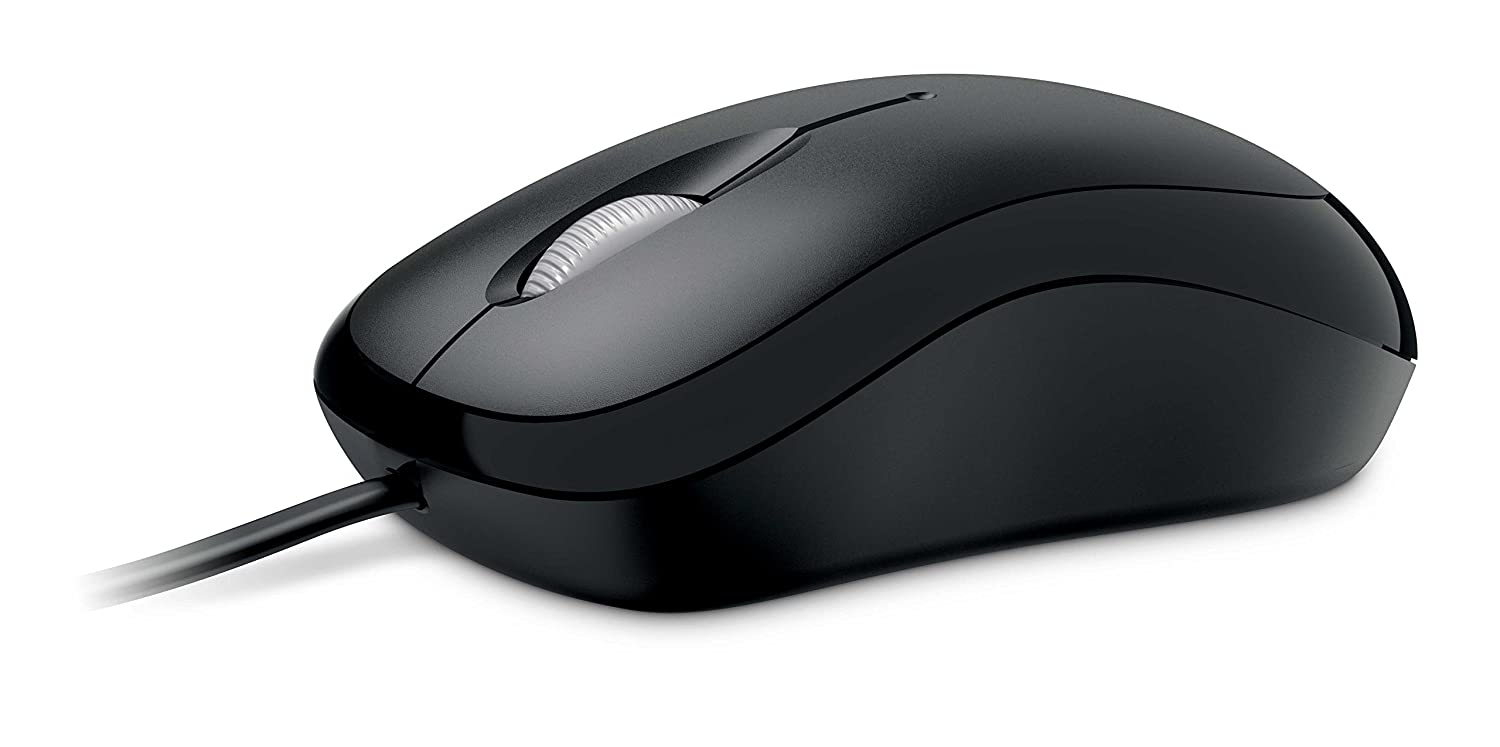mouse: (257, 51, 1464, 649)
